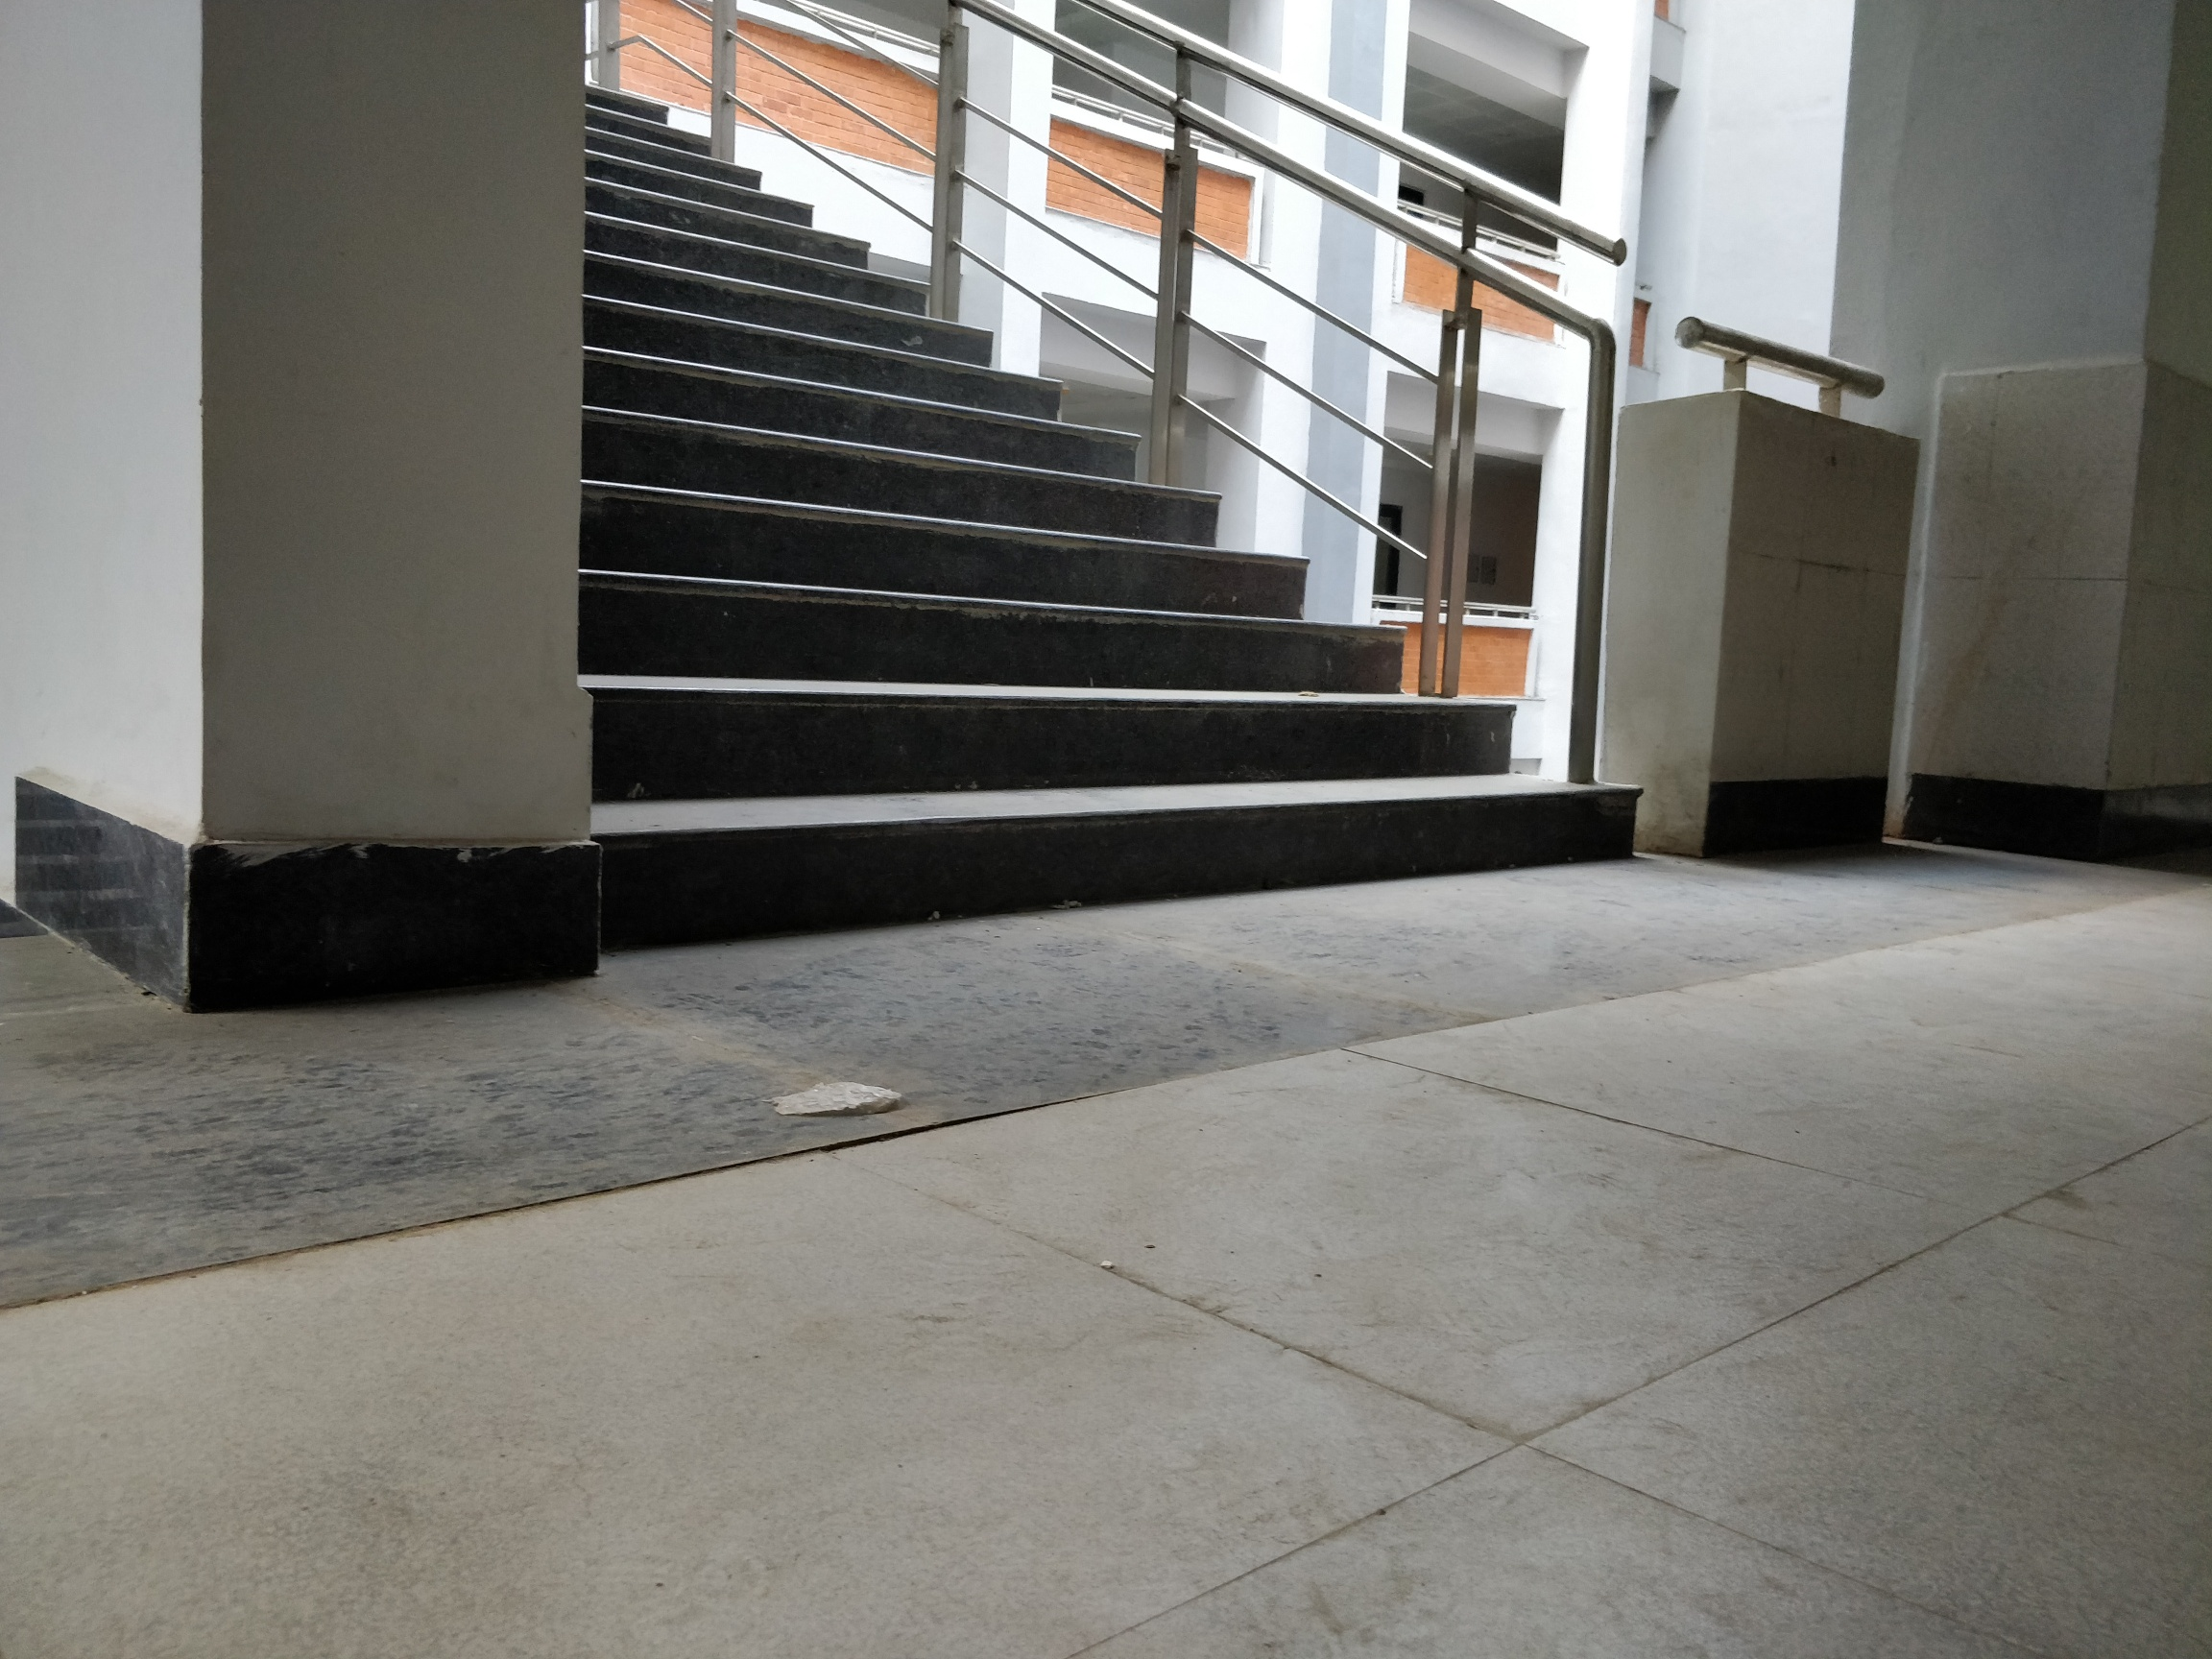stairs_up: (583, 61, 1660, 964)
